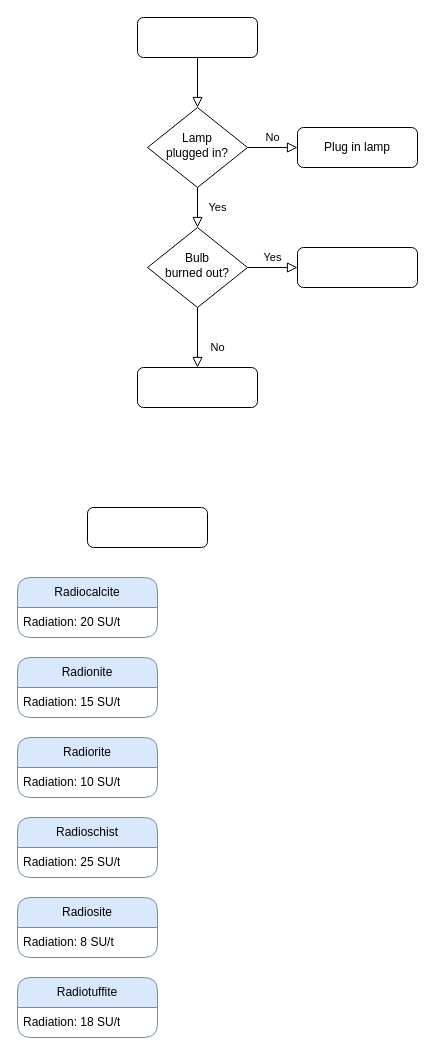
The diagram is 435 pixels wide and 1055 high, and some of its shapes have lost their labels. The shapes that lost their labels are listed below. From the top down, each one's centre as x and y in pixels, then its label:
the point at 197,37: Lamp doesn't work
the point at 357,267: Replace Bulb
the point at 197,387: Repair Lamp
the point at 147,527: Radio
